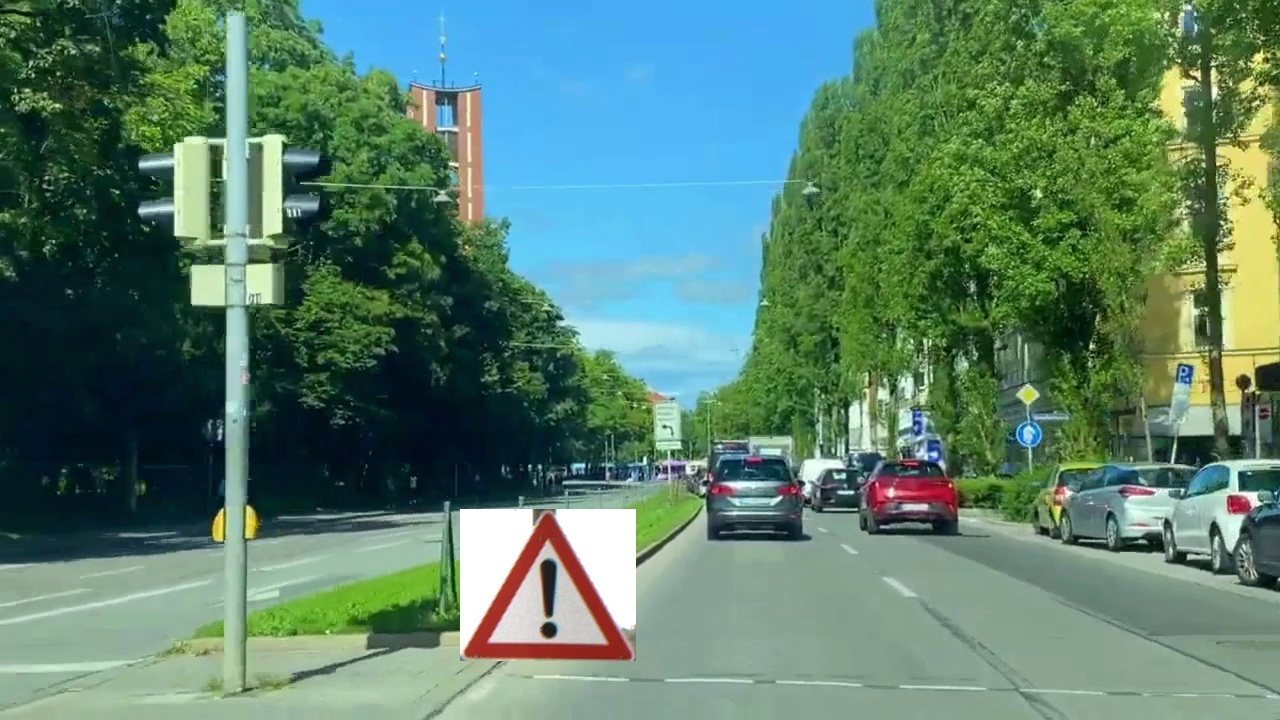Caution: (460, 509, 636, 661)
